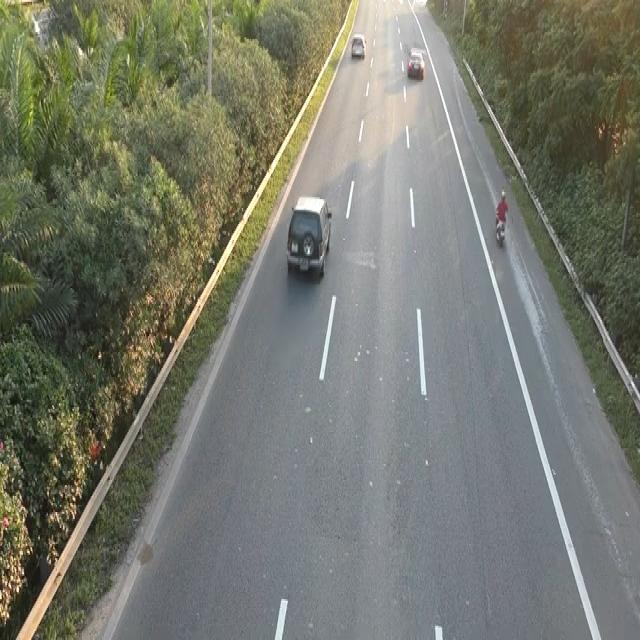car: (284, 192, 333, 279)
minibus: (494, 210, 507, 247)
